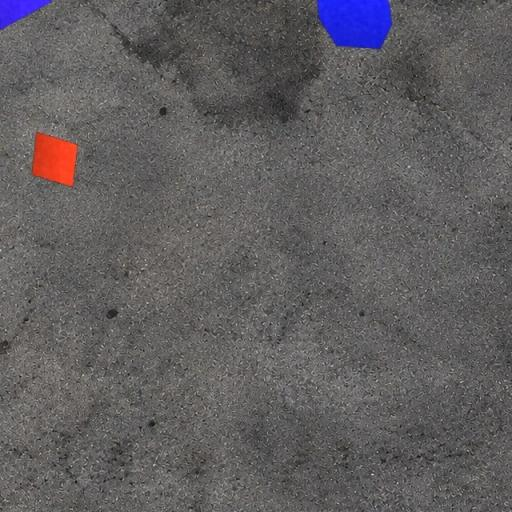RED_SQUARE: (30, 130, 78, 188)
